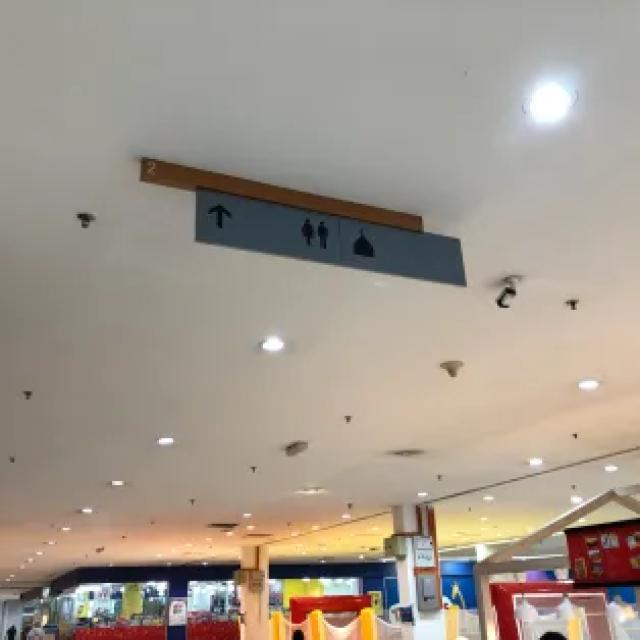surau_icon: (349, 224, 380, 264)
toilet_icon: (298, 212, 334, 256)
